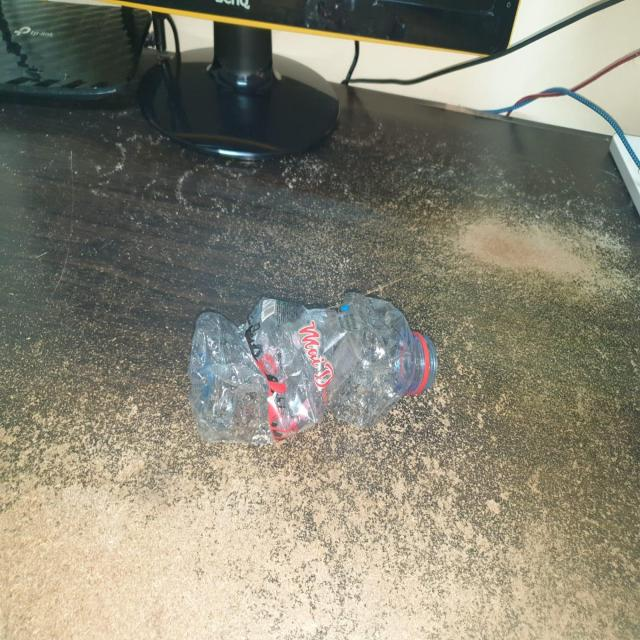bottle: (184, 292, 440, 450)
